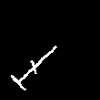double_crochet: (11, 46, 55, 89)
